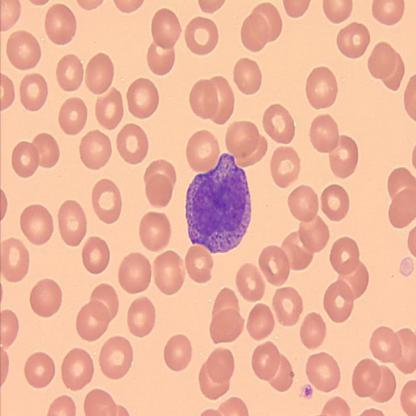Myelocyte: (184, 153, 253, 252)
